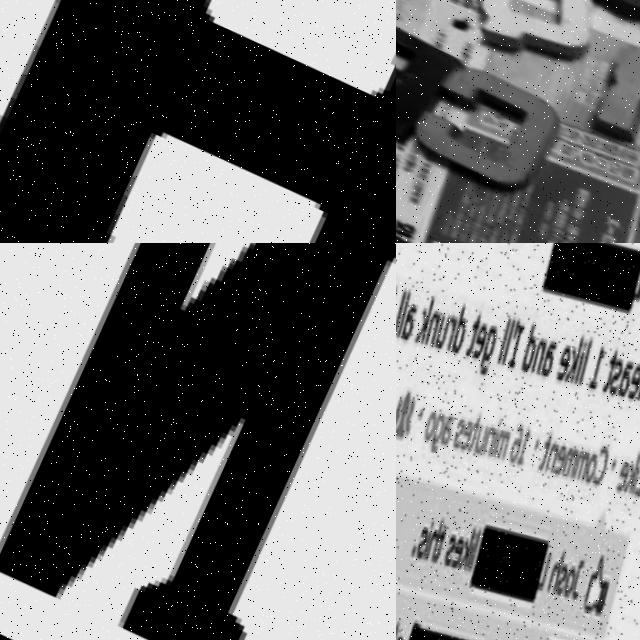2: (502, 415, 534, 462)
B: (396, 0, 445, 143)
C: (402, 50, 570, 199)
N: (0, 243, 396, 640)
Q: (446, 0, 605, 70)
R: (583, 26, 640, 171)
